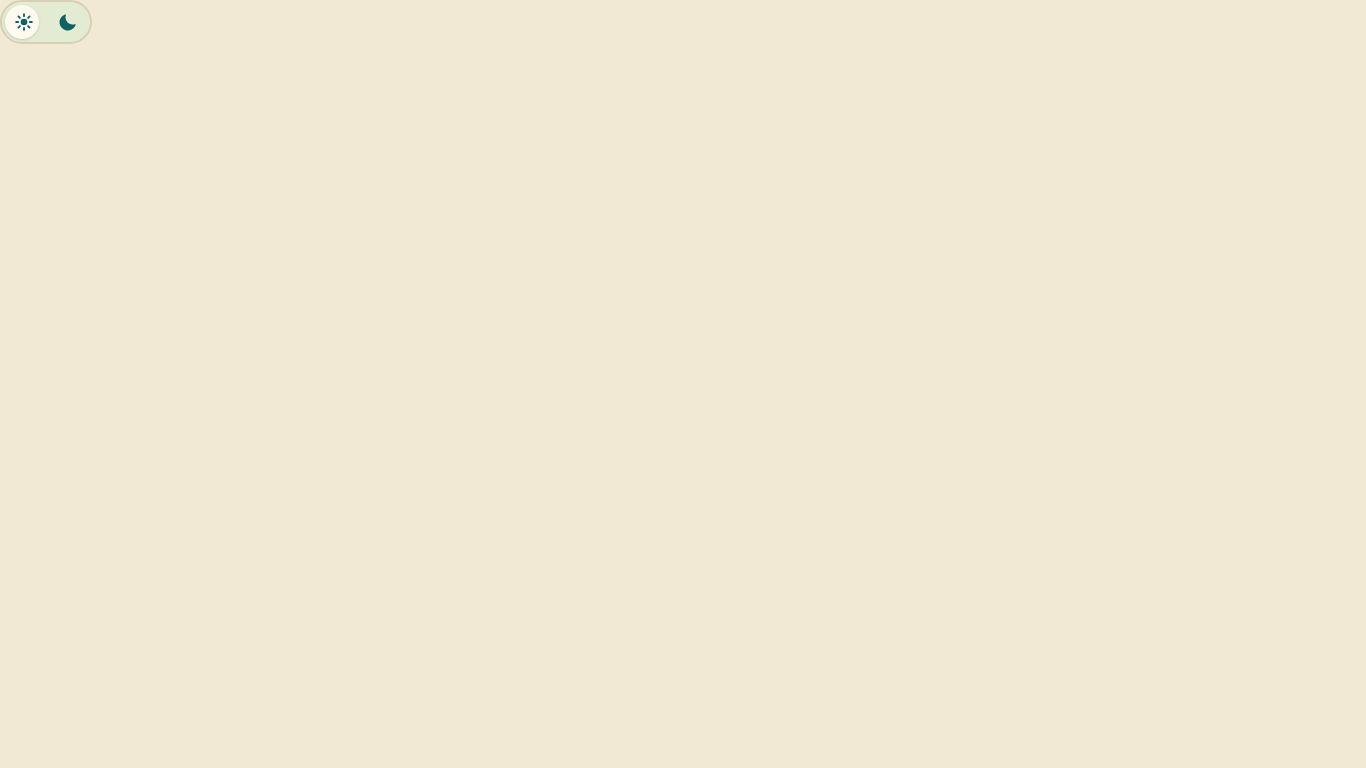
Test: ThemeToggle › toggles theme, accessible state, label, and persistence
Later steps or results of the test are not shown.
Click the switch named "Dark mode". click: (46, 22)
box: [0,0,92,44]
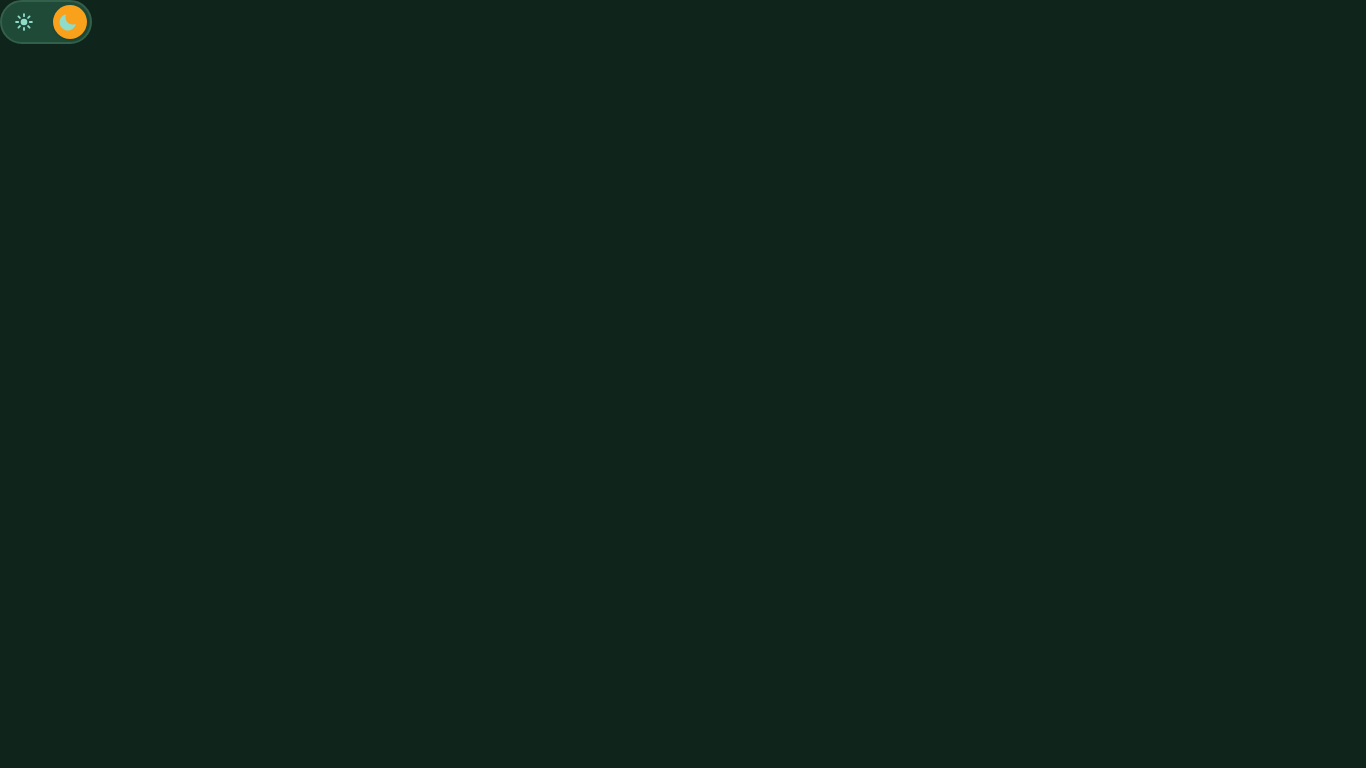
expect the switch named "Dark mode" is checked: met, box [0,0,92,44]
expect the switch named "Dark mode" has attribute title="Switch to light mode": met, box [0,0,92,44]
